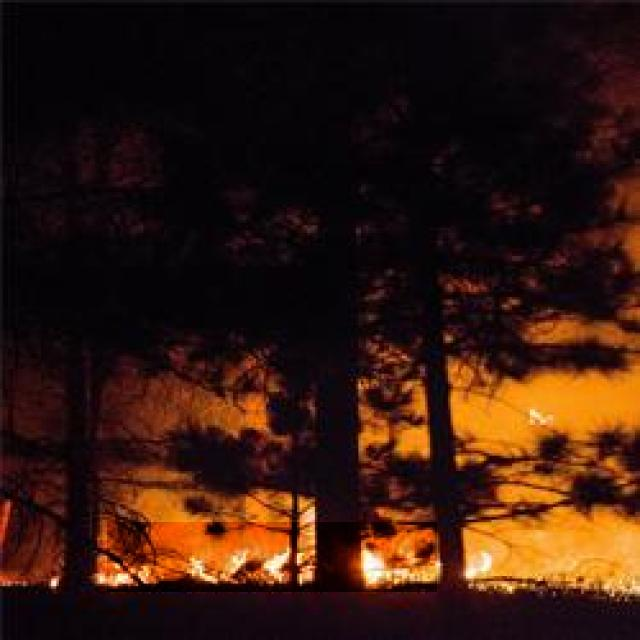Fire: (107, 522, 437, 592)
